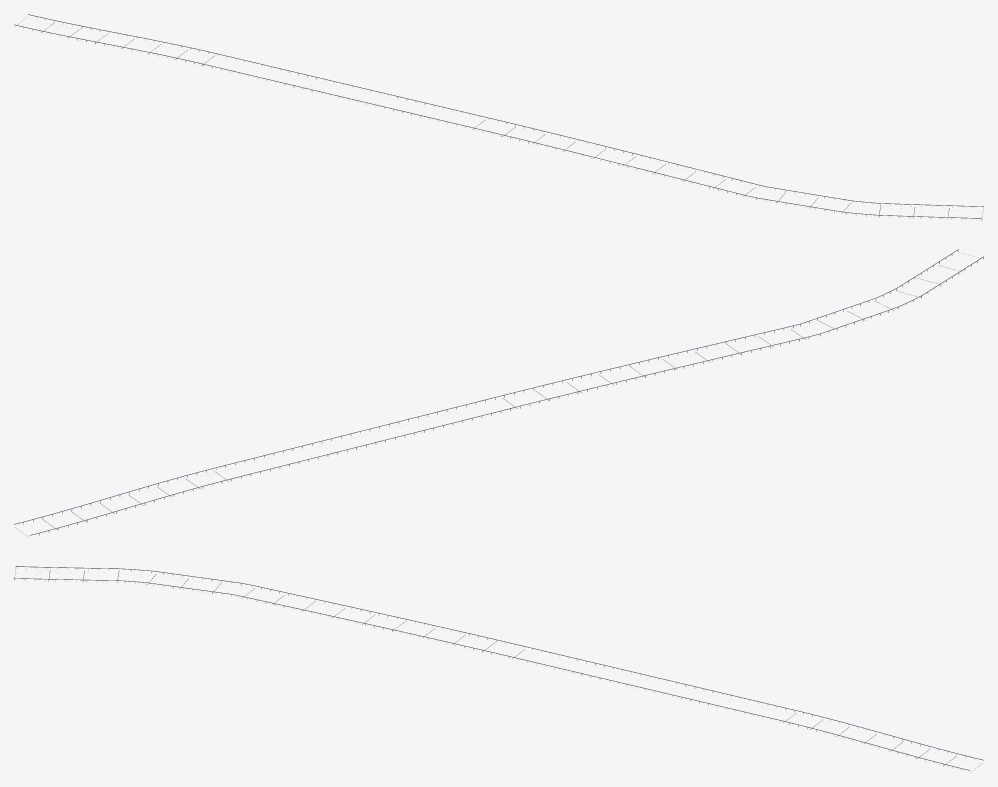
The model's file is transport-2--2.glb.
The picture shows the model from 3 angles, top to bottom: view 1: azimuth 90°, elevation 25°; view 2: azimuth 150°, elevation 25°; view 3: azimuth 270°, elevation 25°; orthographic projection. The views are drawn at different scales.
Visible parts, largest first — view 1: RiverBridge_Details_liangqing-bridge; view 2: RiverBridge_Details_liangqing-bridge; view 3: RiverBridge_Details_liangqing-bridge.
Boxes of the visible parts, <box> form: RiverBridge_Details_liangqing-bridge: <box>14,14,983,220</box>; RiverBridge_Details_liangqing-bridge: <box>14,249,983,537</box>; RiverBridge_Details_liangqing-bridge: <box>14,566,983,772</box>.
Bounding box in the file's own units: 6.54 × 0.131 × 13.12.
